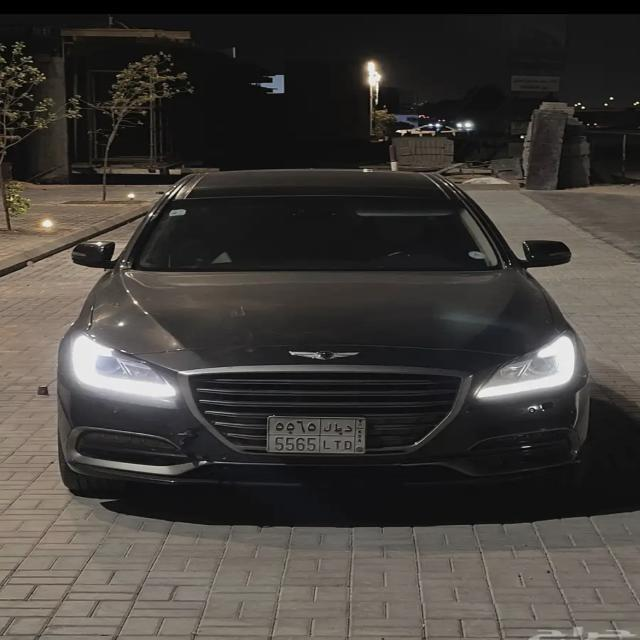license_plate: (266, 416, 368, 454)
